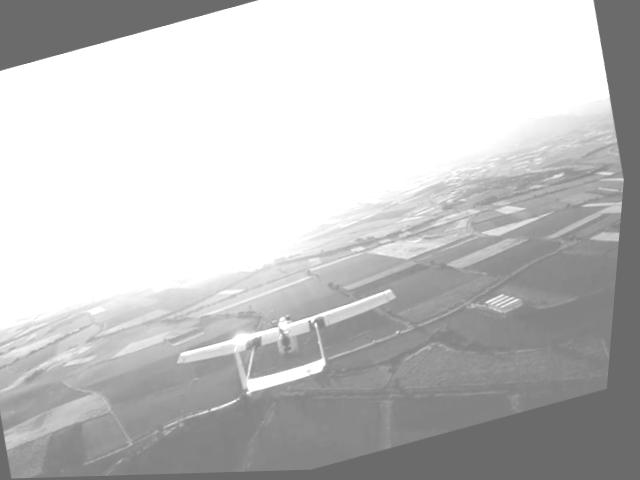hedef: (167, 273, 419, 423)
